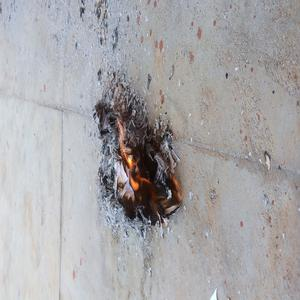fire: (115, 117, 134, 193)
